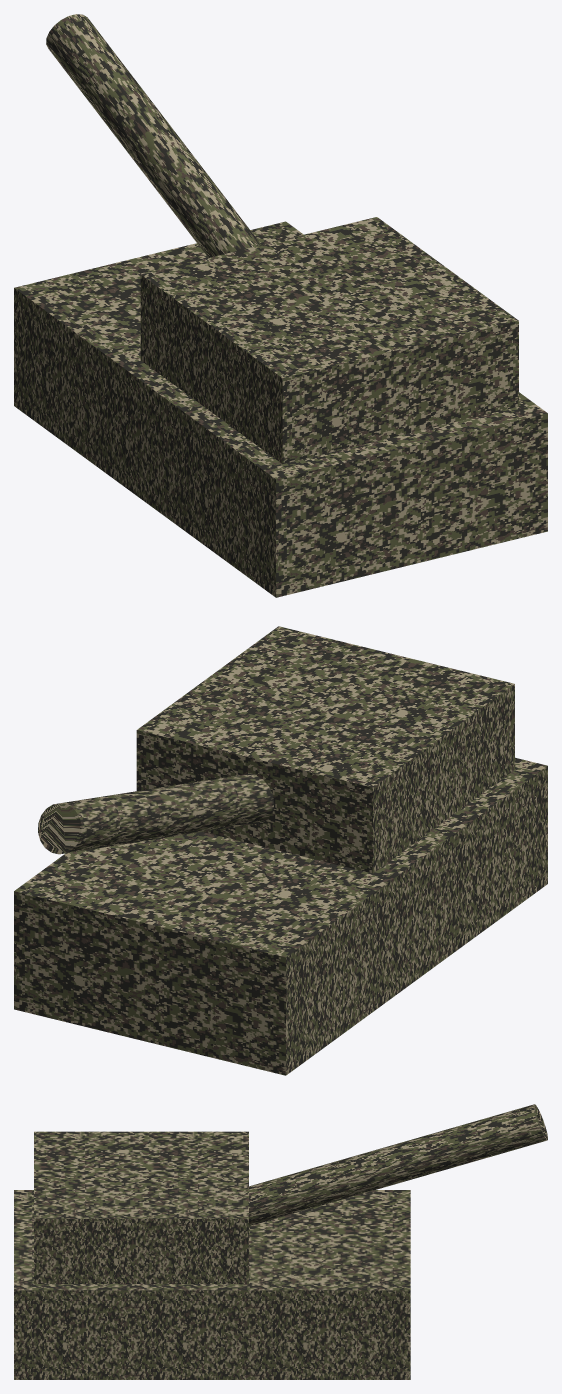
The model's file is tank_unity_12.fbx.
3 renders of one model, top to bottom at view 1: azimuth 30°, elevation 25°; view 2: azimuth 150°, elevation 25°; view 3: azimuth 270°, elevation 25°, orthographic. The views are drawn at different scales.
Visible parts, largest first — view 1: corpus, bashnya, stvol; view 2: corpus, bashnya, stvol; view 3: corpus, bashnya, stvol.
Part boxes in pixels (left/top/right/bottom): corpus: left=14, top=221, right=547, bottom=597; bashnya: left=140, top=217, right=518, bottom=463; stvol: left=46, top=14, right=261, bottom=257; corpus: left=14, top=757, right=547, bottom=1075; bashnya: left=136, top=626, right=514, bottom=873; stvol: left=38, top=773, right=274, bottom=854; corpus: left=14, top=1190, right=410, bottom=1379; bashnya: left=34, top=1131, right=248, bottom=1283; stvol: left=249, top=1104, right=547, bottom=1225.
Bounding box in the file's own units: 18.54 × 19.36 × 41.65.
